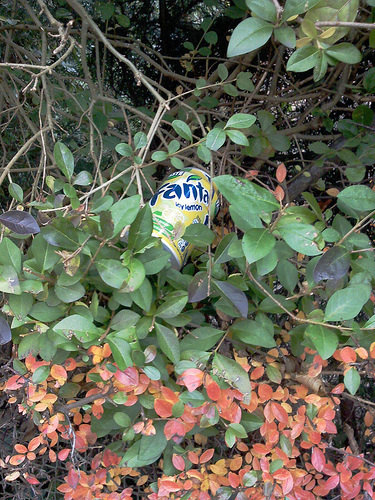litter: (144, 165, 221, 268)
